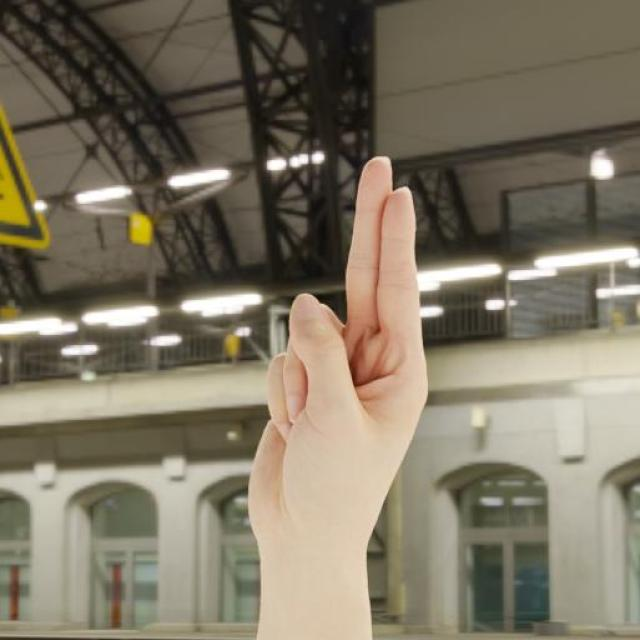U: (242, 154, 424, 556)
